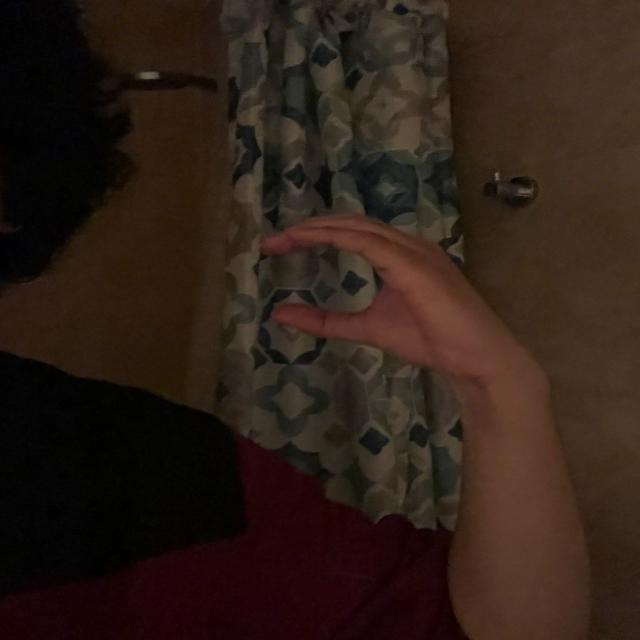C: (248, 204, 507, 365)
